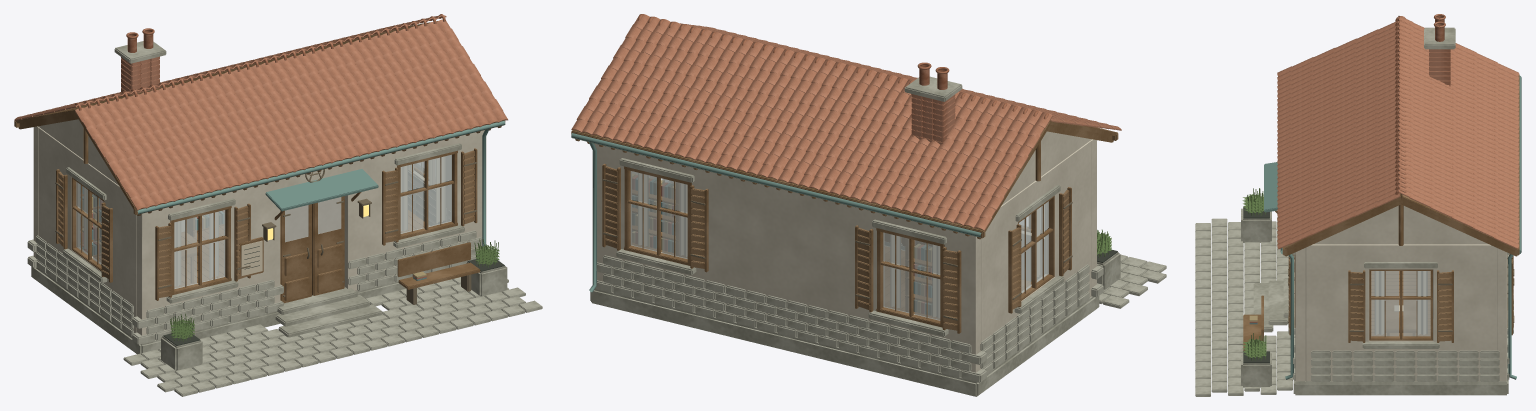
The model's file is academy-atelier.glb.
3 views of the same model, side by side, from view 1: azimuth 30°, elevation 25°; view 2: azimuth 150°, elevation 25°; view 3: azimuth 270°, elevation 25° (orthographic). The views are drawn at different scales.
Visible parts, largest first — view 1: Clay batch, Limestone batch, Oak batch, Limewash batch, Window glass batch, Oxidised copper batch, Paper batch, Aged bronze batch, Herbs batch, Deep joints batch; view 2: Clay batch, Limewash batch, Limestone batch, Oak batch, Window glass batch, Oxidised copper batch, Paper batch, Book 2 batch, Book 0 batch, Book 1 batch, Book 3 batch; view 3: Clay batch, Limestone batch, Limewash batch, Oak batch, Window glass batch, Oxidised copper batch, Paper batch, Herbs batch, Deep joints batch.
Boxes of the visible parts, x1=… form: Clay batch: x1=14, y1=14, x2=507, y2=210; Limestone batch: x1=27, y1=41, x2=542, y2=396; Oak batch: x1=14, y1=21, x2=505, y2=303; Limewash batch: x1=33, y1=119, x2=486, y2=339; Window glass batch: x1=76, y1=154, x2=451, y2=288; Oxidised copper batch: x1=137, y1=120, x2=505, y2=248; Paper batch: x1=84, y1=156, x2=445, y2=286; Aged bronze batch: x1=55, y1=162, x2=476, y2=304; Herbs batch: x1=170, y1=239, x2=499, y2=341; Deep joints batch: x1=163, y1=246, x2=504, y2=345; Clay batch: x1=571, y1=14, x2=1121, y2=230; Limewash batch: x1=592, y1=131, x2=1096, y2=372; Limestone batch: x1=590, y1=76, x2=1166, y2=396; Oak batch: x1=571, y1=120, x2=1118, y2=333; Window glass batch: x1=630, y1=171, x2=1048, y2=320; Oxidised copper batch: x1=571, y1=133, x2=981, y2=292; Paper batch: x1=638, y1=173, x2=1044, y2=317; Book 2 batch: x1=632, y1=174, x2=931, y2=312; Book 0 batch: x1=632, y1=178, x2=932, y2=314; Book 1 batch: x1=632, y1=175, x2=931, y2=313; Book 3 batch: x1=632, y1=181, x2=931, y2=315; Clay batch: x1=1277, y1=14, x2=1519, y2=249; Limestone batch: x1=1195, y1=27, x2=1513, y2=396; Limewash batch: x1=1295, y1=205, x2=1506, y2=381; Oak batch: x1=1243, y1=74, x2=1519, y2=350; Window glass batch: x1=1371, y1=271, x2=1430, y2=336; Oxidised copper batch: x1=1264, y1=76, x2=1521, y2=379; Paper batch: x1=1374, y1=271, x2=1427, y2=334; Herbs batch: x1=1242, y1=188, x2=1266, y2=360; Deep joints batch: x1=1243, y1=206, x2=1269, y2=363.
Size of the model in its own units: 9.87 by 6.32 by 7.58.
15 materials, 4 textured.
